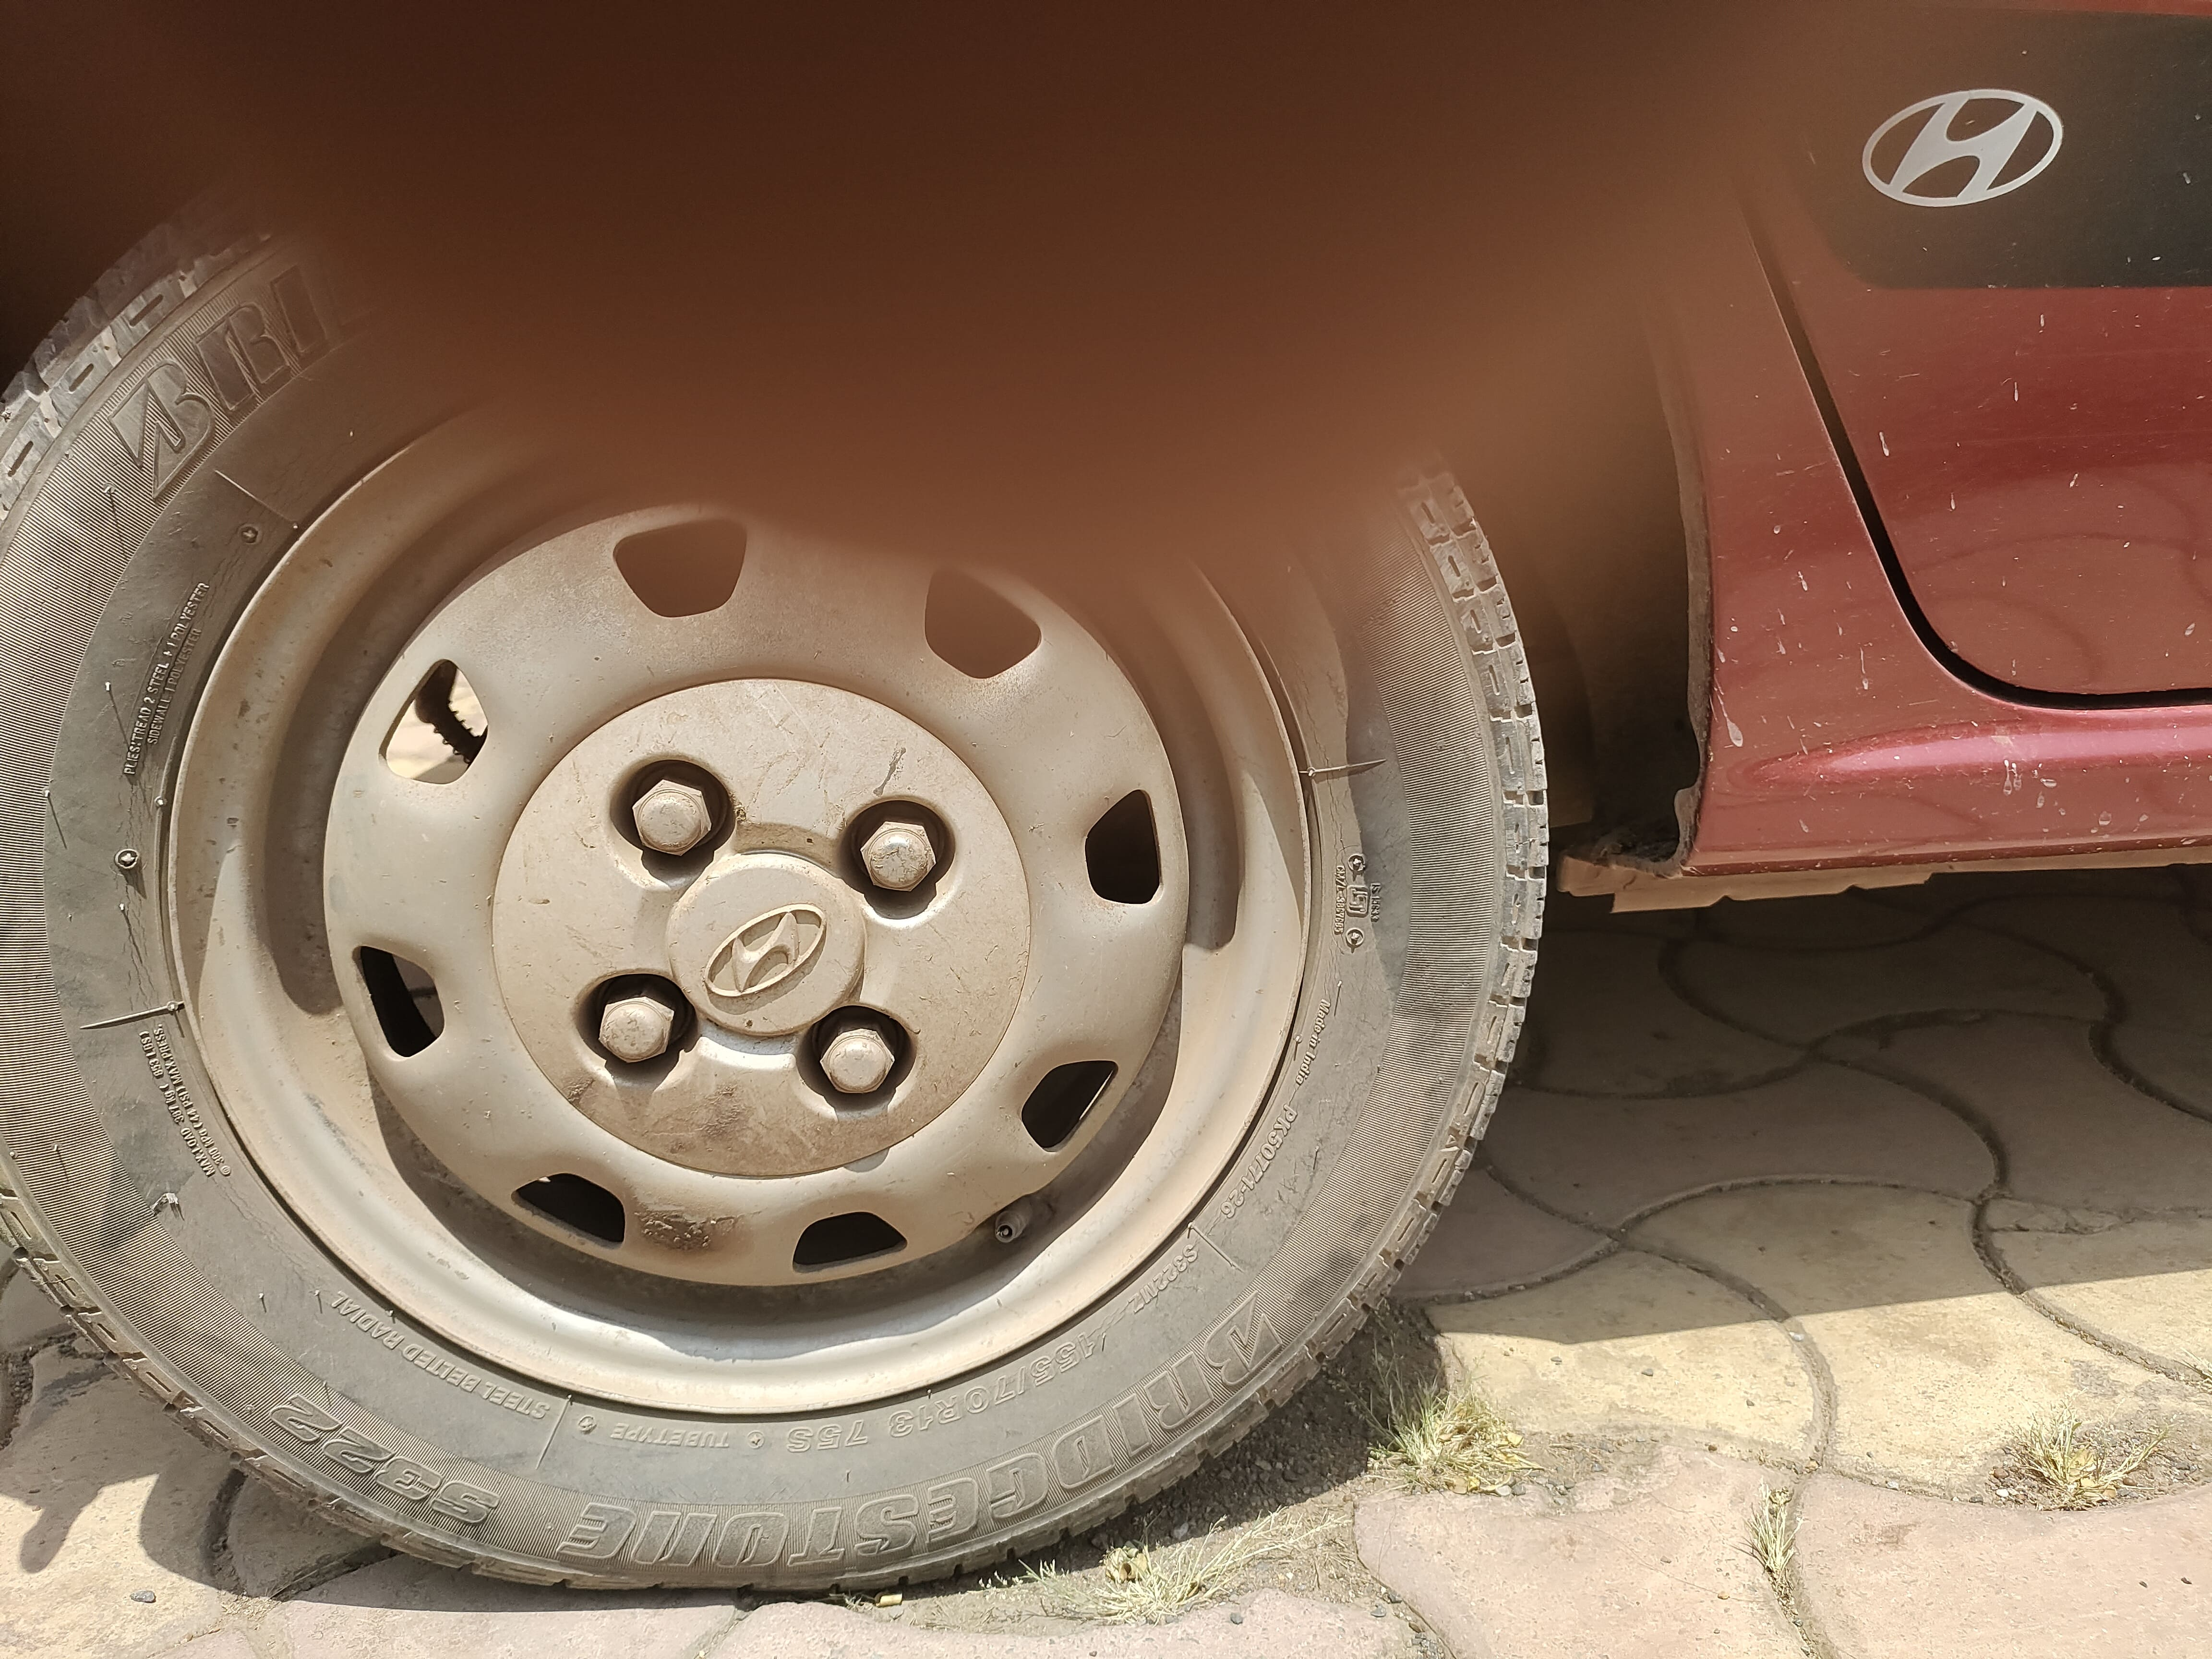l: (594, 767, 728, 894), (791, 995, 918, 1115), (824, 798, 944, 920), (566, 969, 690, 1077)
